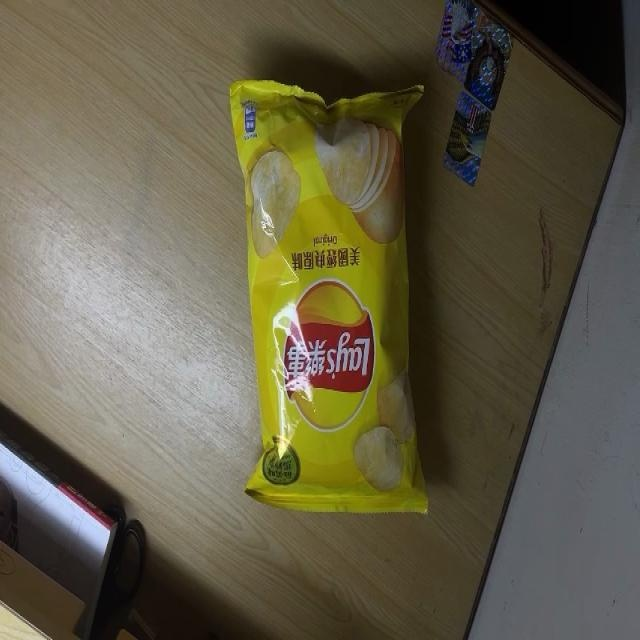Lay-s-original: (227, 78, 431, 520)
